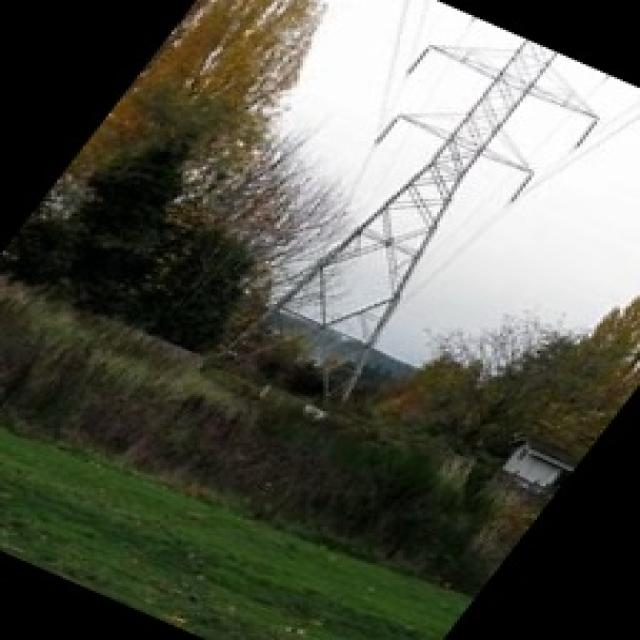utility poles: (332, 324, 488, 437), (193, 230, 306, 366)
